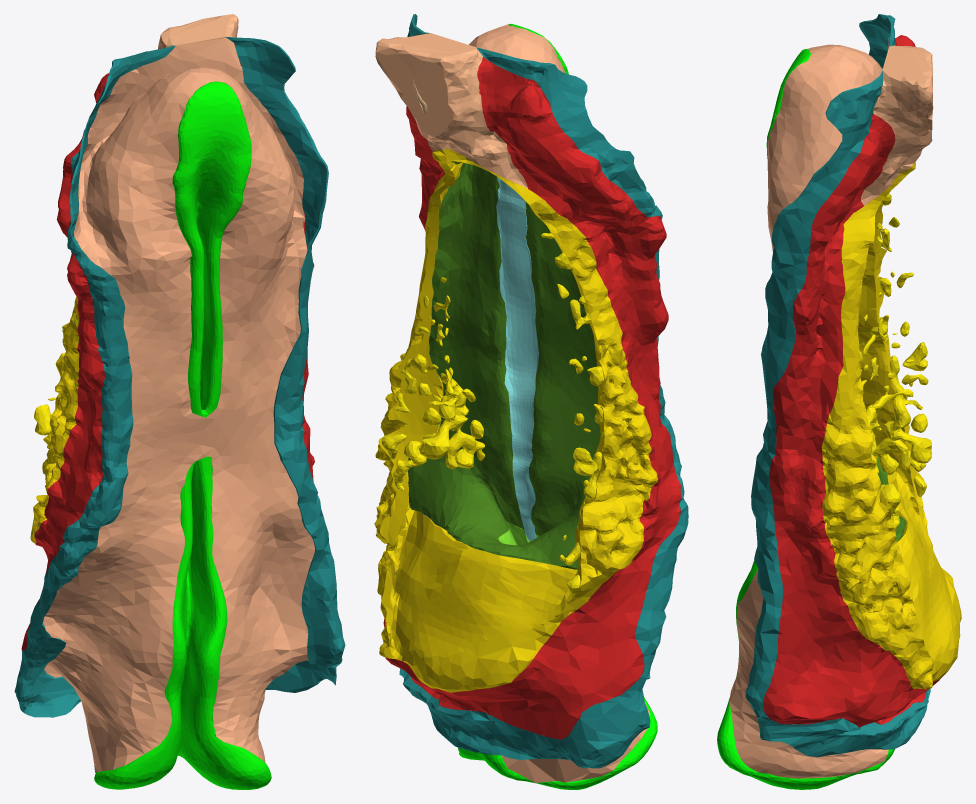
The model's file is CS10 - All models solidified-03-22-2016.fbx.
The picture shows the model from 3 angles, left to right: view 1: azimuth 30°, elevation 25°; view 2: azimuth 150°, elevation 25°; view 3: azimuth 270°, elevation 25°; orthographic projection. The views are drawn at different scales.
Visible parts, largest first — view 1: Epidermal ectoderm, Amnion wall, Neural plate, Intra-embryonic mesoderm, Yolk sac wall, Connecting stalk; view 2: Yolk sac wall, Intra-embryonic mesoderm, Midgut, Amnion wall, Connecting stalk, Vitelline plexus, Notochordal plate, Epidermal ectoderm, Neural plate; view 3: Intra-embryonic mesoderm, Yolk sac wall, Amnion wall, Epidermal ectoderm, Vitelline plexus, Connecting stalk, Neural plate.
Boxes of the visible parts, x1=… form: Epidermal ectoderm: x1=43, y1=37, x2=314, y2=772; Amnion wall: x1=14, y1=36, x2=345, y2=717; Neural plate: x1=94, y1=81, x2=271, y2=789; Intra-embryonic mesoderm: x1=21, y1=68, x2=314, y2=650; Yolk sac wall: x1=30, y1=296, x2=79, y2=548; Connecting stalk: x1=158, y1=14, x2=242, y2=70; Yolk sac wall: x1=374, y1=148, x2=657, y2=692; Intra-embryonic mesoderm: x1=383, y1=56, x2=681, y2=739; Midgut: x1=408, y1=148, x2=600, y2=569; Amnion wall: x1=399, y1=14, x2=688, y2=768; Connecting stalk: x1=375, y1=33, x2=528, y2=188; Vitelline plexus: x1=381, y1=163, x2=603, y2=594; Notochordal plate: x1=496, y1=177, x2=538, y2=541; Epidermal ectoderm: x1=469, y1=23, x2=656, y2=782; Neural plate: x1=458, y1=24, x2=657, y2=789; Intra-embryonic mesoderm: x1=763, y1=35, x2=942, y2=727; Yolk sac wall: x1=821, y1=162, x2=961, y2=689; Amnion wall: x1=745, y1=14, x2=930, y2=757; Epidermal ectoderm: x1=729, y1=37, x2=889, y2=778; Vitelline plexus: x1=859, y1=193, x2=931, y2=534; Connecting stalk: x1=861, y1=45, x2=932, y2=205; Neural plate: x1=717, y1=49, x2=894, y2=789.
Bounding box in the file's own units: 7.85 × 5.91 × 19.58.
